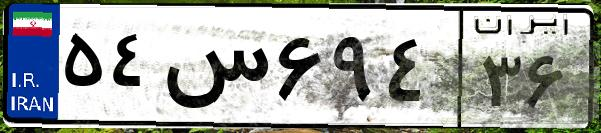3: (475, 38, 525, 113)
4: (385, 28, 445, 110), (110, 28, 158, 98)
5: (57, 26, 110, 100)
6: (270, 28, 330, 110), (525, 38, 570, 115)
9: (330, 28, 385, 110)
س: (158, 20, 270, 120)
